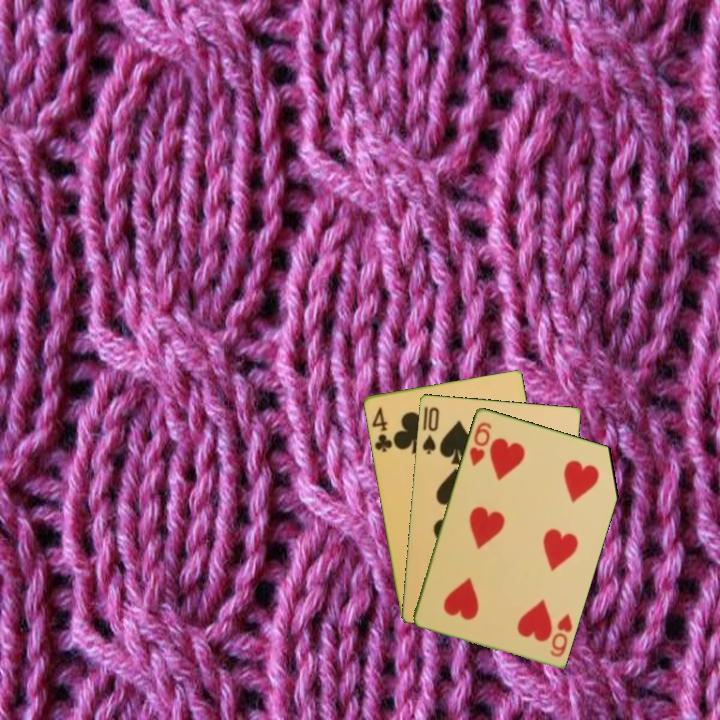10s: (419, 403, 442, 457)
4c: (368, 403, 395, 455)
6h: (546, 609, 575, 659), (466, 418, 494, 468)
